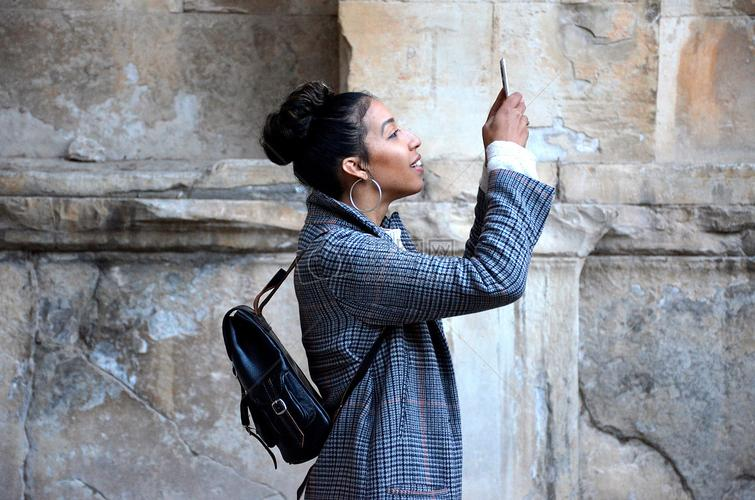taking photos: (477, 52, 533, 153)
